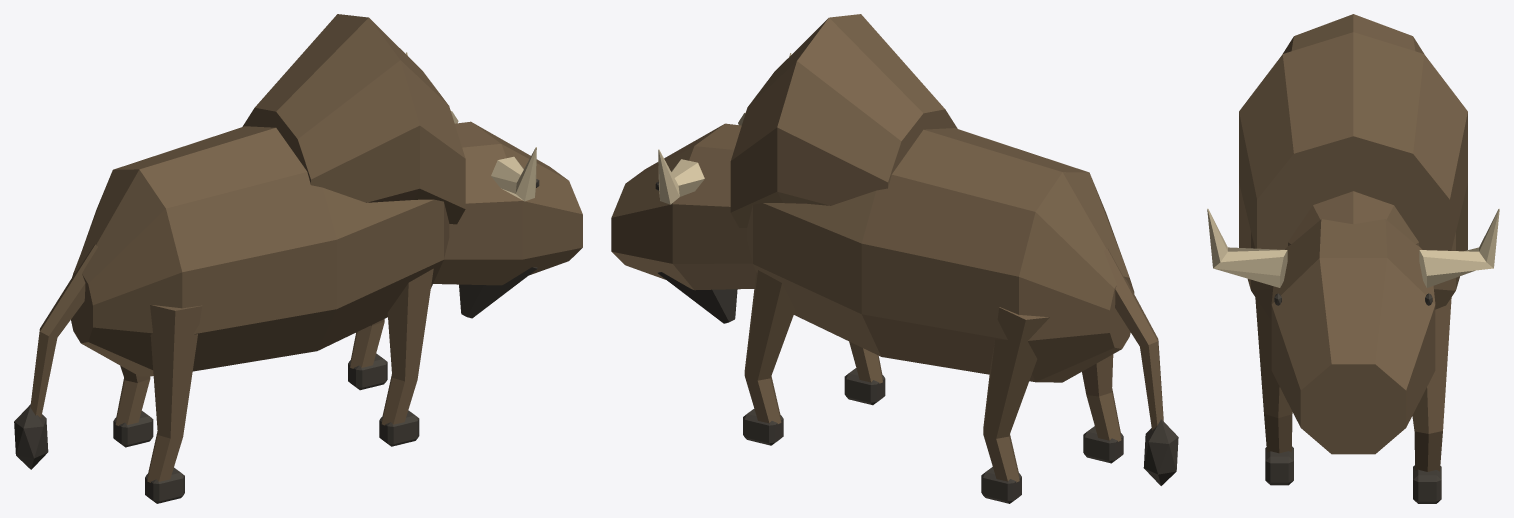
The model's file is bison.glb.
3 views of the same model, side by side, from view 1: azimuth 30°, elevation 25°; view 2: azimuth 150°, elevation 25°; view 3: azimuth 270°, elevation 25° (orthographic). The views are drawn at different scales.
Parts seen in each view (by area): view 1: Sculpted silhouette, Sculpted silhouette.001, Sculpted silhouette.002, Tapered form, Tapered form.002, Tapered form.007, Icosphere, Tapered form.005, Tapered form.004, Tapered form.001, Tapered form.003, Cube.001 (+3 smaller); view 2: Sculpted silhouette, Sculpted silhouette.001, Sculpted silhouette.002, Tapered form.001, Tapered form.003, Tapered form.007, Tapered form, Icosphere, Tapered form.006, Tapered form.004, Cube.002, Cube (+3 smaller); view 3: Sculpted silhouette.001, Sculpted silhouette.002, Sculpted silhouette, Tapered form.003, Tapered form.002, Tapered form.005, Tapered form.006, Cube.002, Cube.003.
Boxes of the visible parts, bbox=[...] form: Sculpted silhouette: bbox=[71, 126, 449, 376]; Sculpted silhouette.001: bbox=[242, 14, 465, 224]; Sculpted silhouette.002: bbox=[433, 121, 582, 285]; Tapered form: bbox=[147, 304, 201, 482]; Tapered form.002: bbox=[381, 268, 433, 425]; Tapered form.007: bbox=[30, 244, 97, 417]; Icosphere: bbox=[14, 404, 48, 469]; Tapered form.005: bbox=[491, 147, 536, 201]; Tapered form.004: bbox=[459, 267, 537, 318]; Tapered form.001: bbox=[115, 366, 150, 425]; Tapered form.003: bbox=[350, 319, 384, 368]; Cube.001: bbox=[113, 411, 153, 447]; Sculpted silhouette: bbox=[747, 128, 1134, 382]; Sculpted silhouette.001: bbox=[730, 14, 957, 227]; Sculpted silhouette.002: bbox=[611, 123, 756, 290]; Tapered form.001: bbox=[983, 307, 1049, 482]; Tapered form.003: bbox=[744, 270, 795, 423]; Tapered form.007: bbox=[1104, 248, 1163, 430]; Tapered form: bbox=[1082, 354, 1121, 441]; Icosphere: bbox=[1143, 419, 1178, 485]; Tapered form.006: bbox=[658, 149, 704, 204]; Tapered form.004: bbox=[657, 272, 737, 323]; Cube.002: bbox=[844, 368, 885, 405]; Cube: bbox=[1083, 426, 1123, 463]; Sculpted silhouette.001: bbox=[1239, 32, 1467, 250]; Sculpted silhouette.002: bbox=[1271, 219, 1435, 454]; Sculpted silhouette: bbox=[1239, 14, 1467, 320]; Tapered form.003: bbox=[1412, 297, 1451, 471]; Tapered form.002: bbox=[1255, 297, 1292, 453]; Tapered form.005: bbox=[1207, 208, 1287, 287]; Tapered form.006: bbox=[1419, 208, 1499, 287]; Cube.002: bbox=[1265, 446, 1293, 485]; Cube.003: bbox=[1413, 465, 1441, 503].
Size of the model in its own units: 1.1 by 0.78 by 0.4617.
